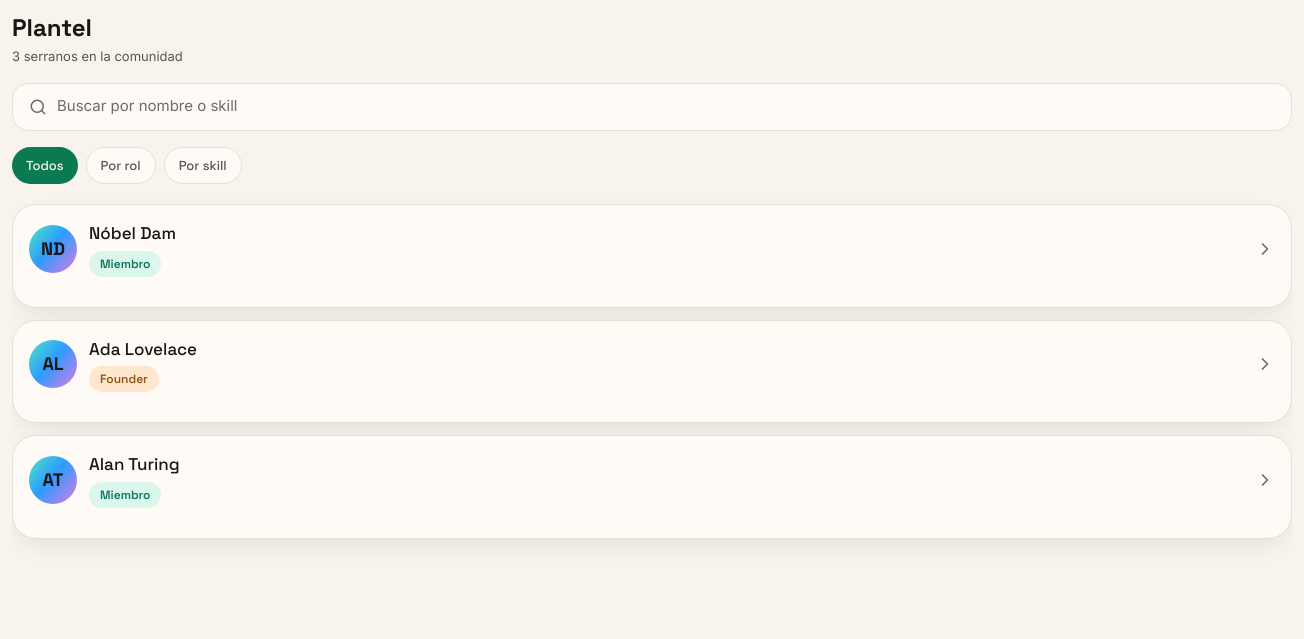
Test: PlantelList › clears the role filter when the active option is clicked again
Click the button "Por rol".
click(121, 165)  # box [86,146,156,184]
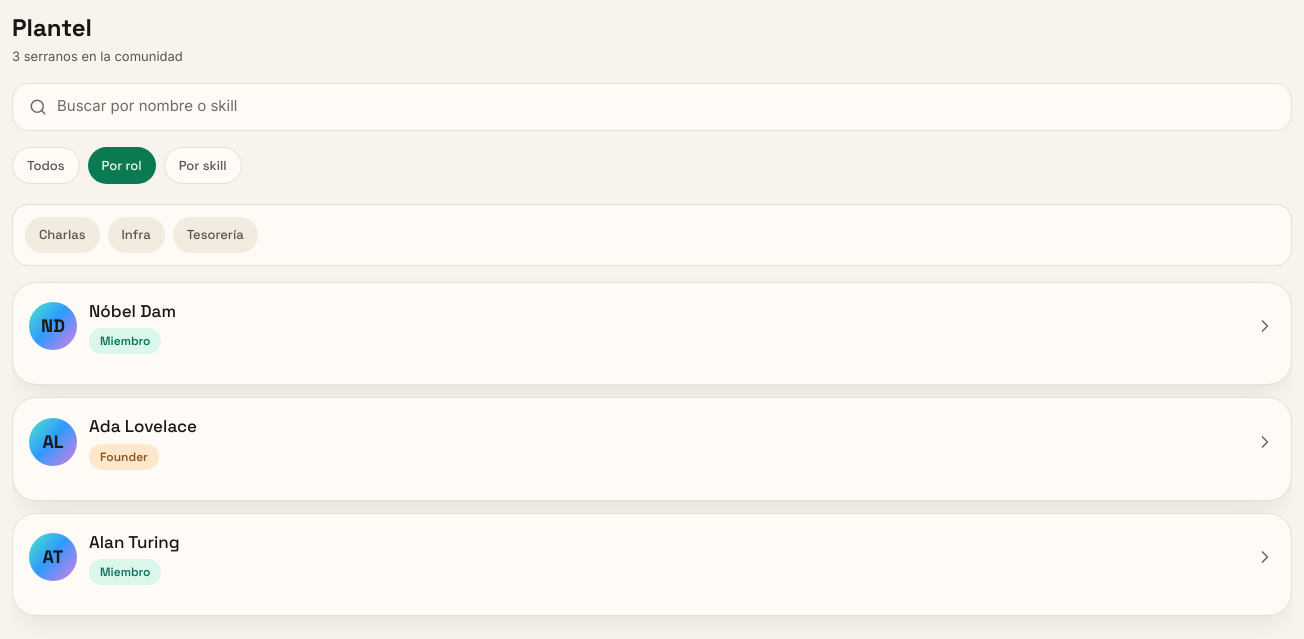
Click the button "Tesorería".
click(215, 235)  # box [173,217,258,252]
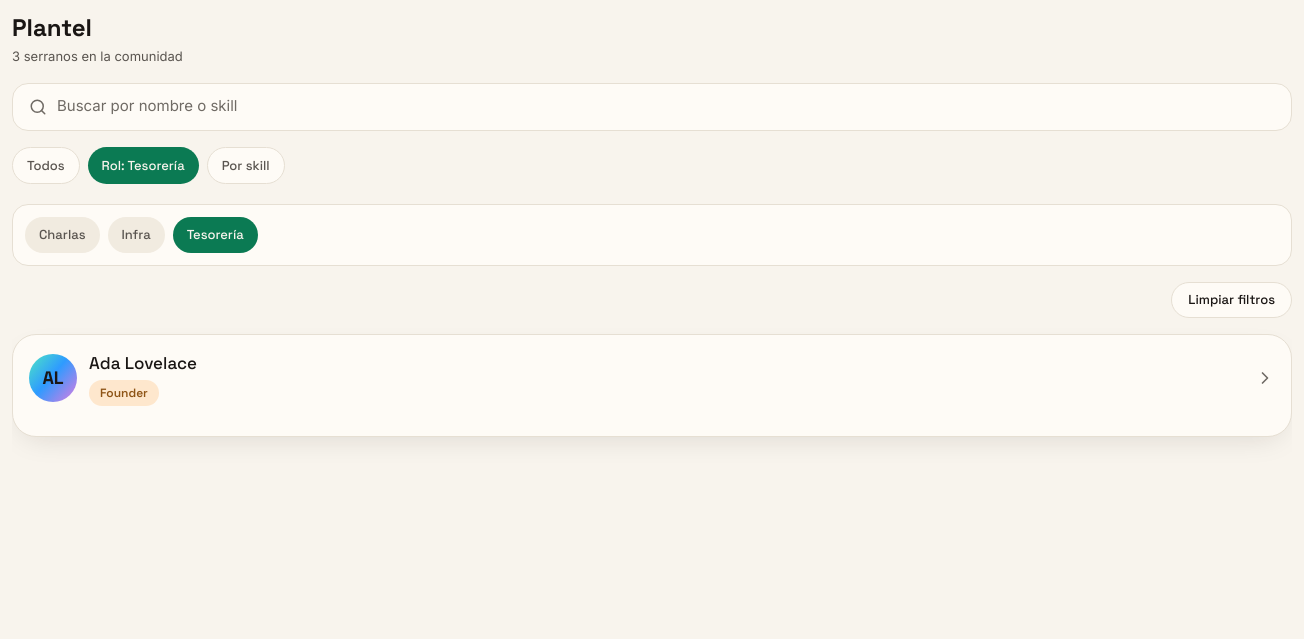
Expected: the button "Rol: Tesorería" is shown, [88,146,199,184]
Click the button "Tesorería".
click(215, 235)  # box [173,217,258,252]
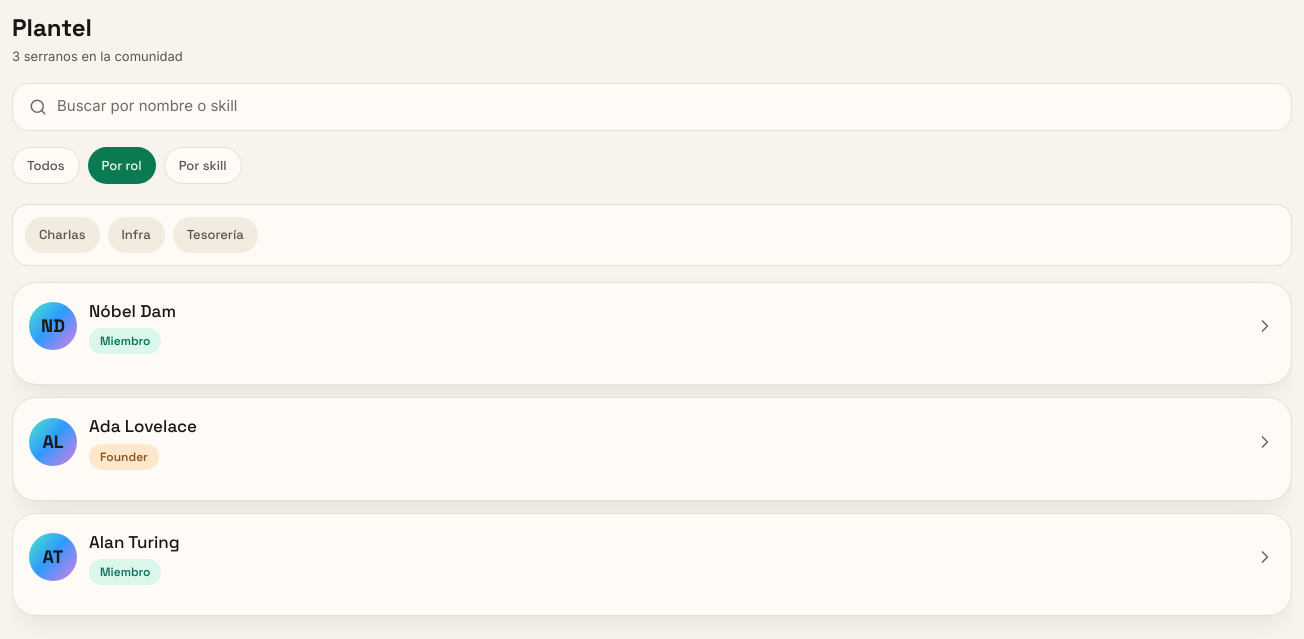
Expected: the text "Nóbel Dam" is shown, [89,298,176,324]
Expected: the button "Por rol" is shown, [88,146,156,184]
